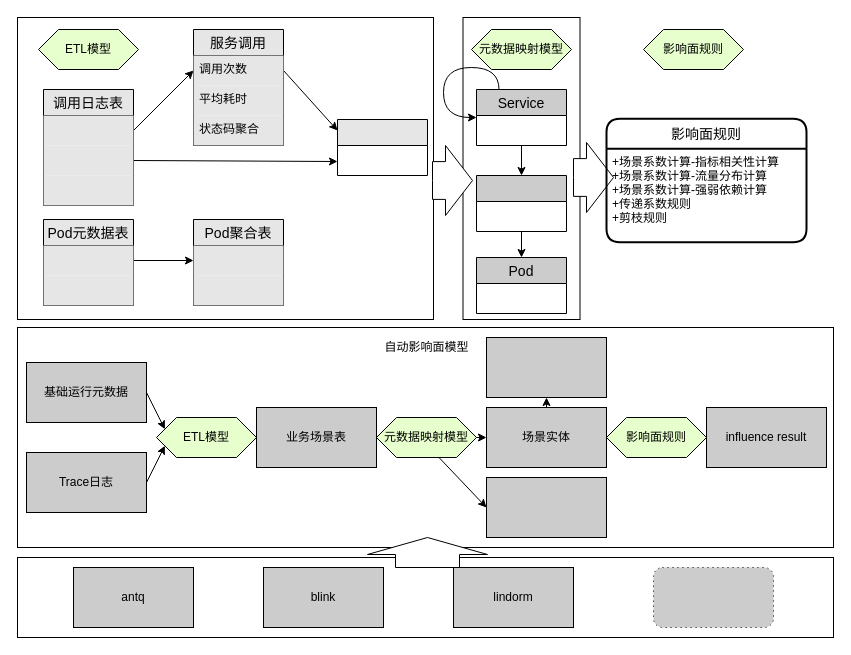
Some shapes in this 851 by 655 pixel diagram are drawn without their labels. The shapes that lost their labels are listed below. From the top down, each one's centre as x and y in pixels, then its label:
(88,130): 结果码
(382,147): 应用启动依赖
(88,160): 耗时
(88,190): 接口
(521,203): App
(88,260): 应用
(238,260): 运行状态
(88,290): IP
(238,290): 数量
(546,367): 运行指标
(546,507): 场景边
(713,597): Geabase
